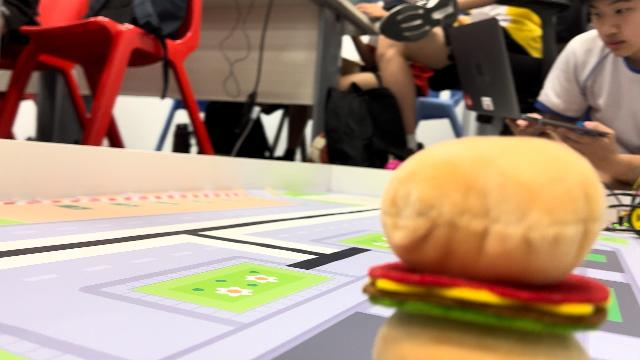burger: (361, 135, 611, 360)
